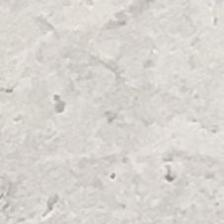Non_Crack: (15, 13, 198, 224)
